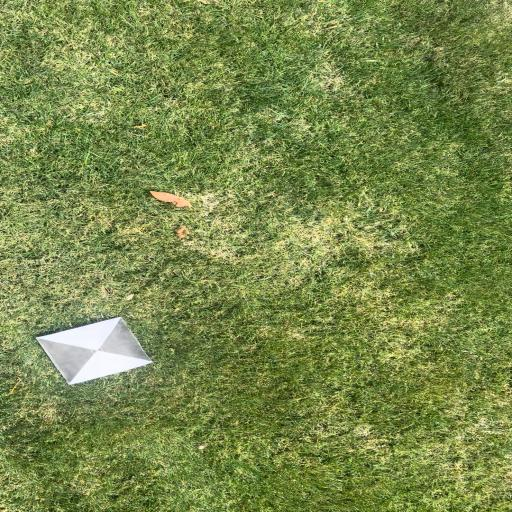target: (36, 317, 155, 385)
